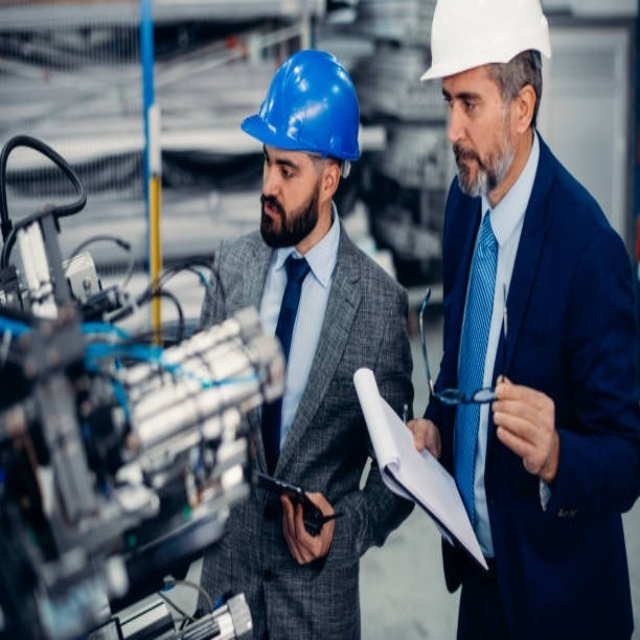Sin_gafas: (441, 78, 490, 122), (261, 143, 304, 190)
Sin_guantes: (491, 378, 557, 479), (281, 487, 336, 564), (405, 415, 441, 461)
Sin_mascara: (451, 143, 482, 182), (260, 195, 292, 232)
